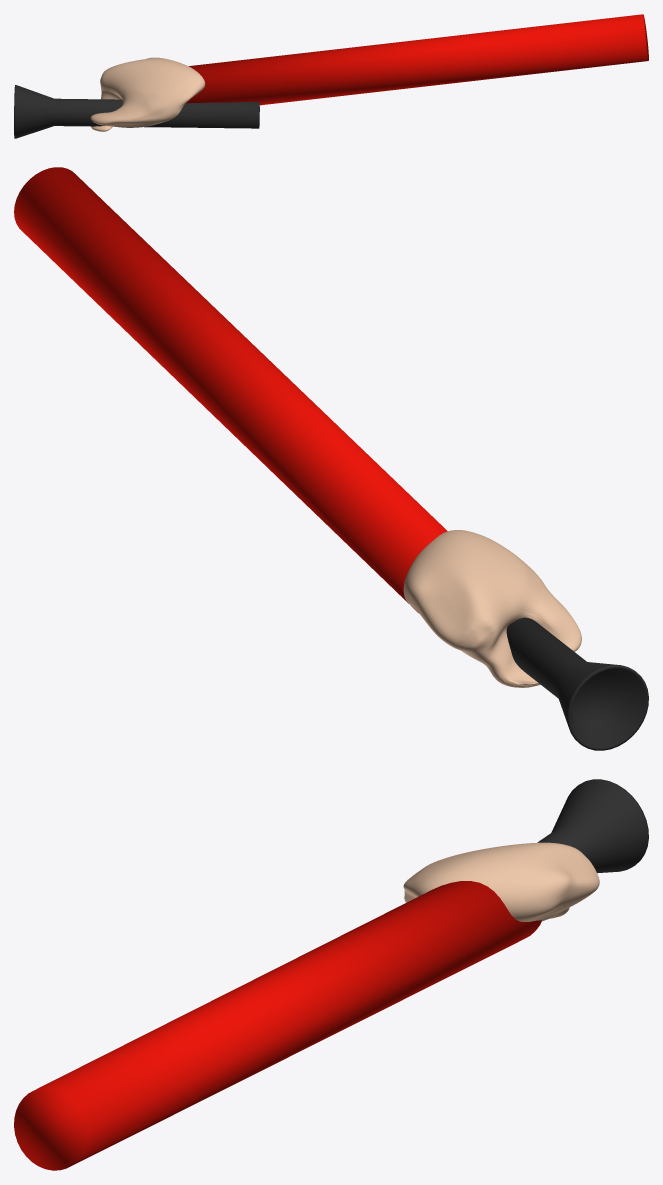
The model's file is Hand_Flashlight.glb.
3 renders of one model, top to bottom at view 1: azimuth 30°, elevation 25°; view 2: azimuth 150°, elevation 25°; view 3: azimuth 270°, elevation 25°, orthographic. The views are drawn at different scales.
Visible parts, largest first — view 1: Hand, Flashlight; view 2: Hand, Flashlight; view 3: Hand, Flashlight.
Boxes of the visible parts, box(x1,y1,x2,y2) form: Hand: box(90, 14, 648, 131); Flashlight: box(14, 85, 259, 138); Hand: box(14, 167, 581, 687); Flashlight: box(506, 617, 648, 750); Hand: box(14, 842, 599, 1170); Flashlight: box(537, 779, 648, 873).
Bounding box in the file's own units: 42.47 × 9.18 × 25.35.
